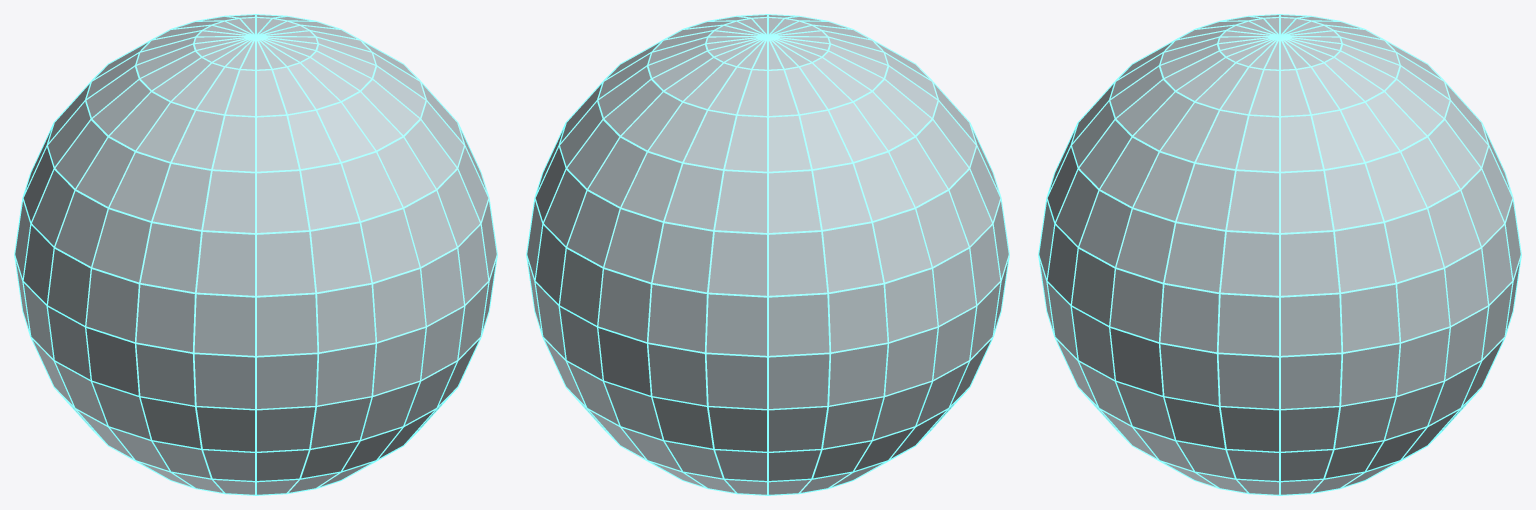
File: rader.glb
The picture shows the model from 3 angles, left to right: view 1: azimuth 30°, elevation 25°; view 2: azimuth 150°, elevation 25°; view 3: azimuth 270°, elevation 25°; orthographic projection.
Visible parts, largest first — view 1: 球.001, 球; view 2: 球.001, 球; view 3: 球.001, 球.
Part boxes in pixels (bbox=[...]): 球.001: bbox=[15, 15, 496, 494]; 球: bbox=[14, 14, 497, 495]; 球.001: bbox=[527, 15, 1008, 494]; 球: bbox=[526, 14, 1009, 495]; 球.001: bbox=[1039, 15, 1520, 494]; 球: bbox=[1038, 14, 1521, 495].
Size of the model in its own units: 2.02 by 2.02 by 2.02.
